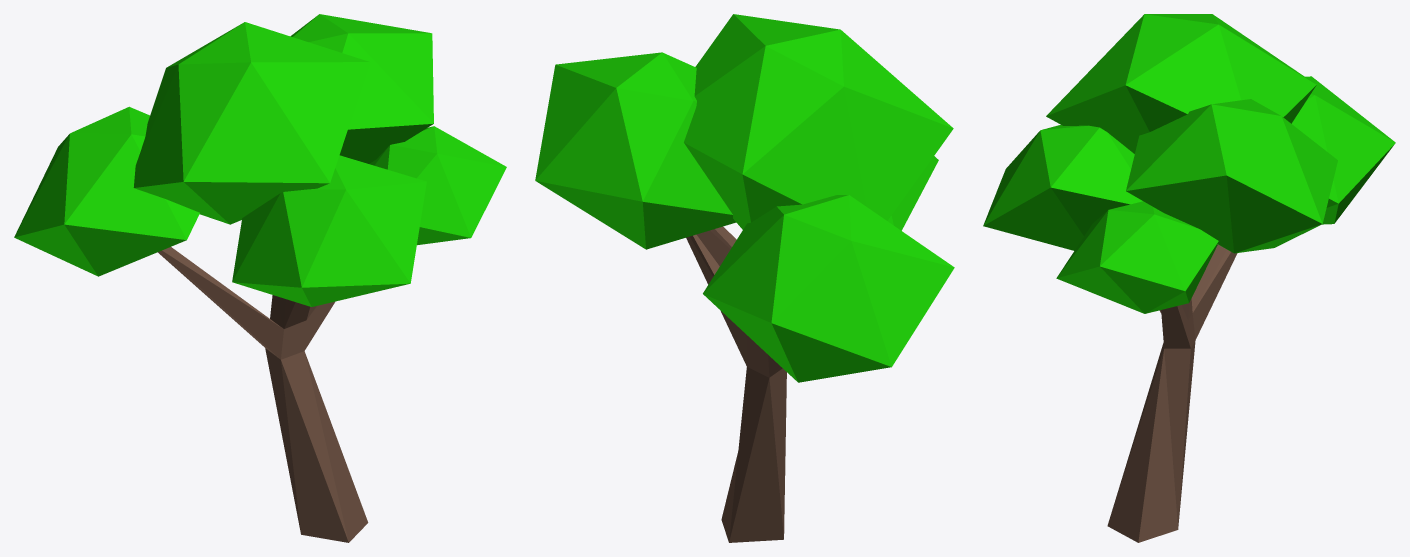
Rendered from oak.dae.
The picture shows the model from 3 angles, left to right: view 1: azimuth 30°, elevation 25°; view 2: azimuth 150°, elevation 25°; view 3: azimuth 270°, elevation 25°; orthographic projection. The views are drawn at different scales.
Visible parts, largest first — view 1: Icosphere, Icosphere_004, Icosphere_001, Cube, Icosphere_002, Icosphere_003; view 2: Icosphere, Icosphere_001, Icosphere_002, Cube, Icosphere_004; view 3: Icosphere_002, Icosphere, Cube, Icosphere_004, Icosphere_003, Icosphere_001.
Boxes of the visible parts, x1=… form: Icosphere: x1=133, y1=22, x2=370, y2=224; Icosphere_004: x1=232, y1=155, x2=426, y2=306; Icosphere_001: x1=14, y1=106, x2=199, y2=276; Cube: x1=158, y1=247, x2=368, y2=542; Icosphere_002: x1=290, y1=14, x2=433, y2=163; Icosphere_003: x1=369, y1=126, x2=506, y2=245; Icosphere: x1=684, y1=14, x2=953, y2=229; Icosphere_001: x1=703, y1=195, x2=954, y2=382; Icosphere_002: x1=535, y1=52, x2=735, y2=249; Cube: x1=686, y1=226, x2=786, y2=542; Icosphere_004: x1=887, y1=156, x2=938, y2=230; Icosphere_002: x1=1126, y1=99, x2=1337, y2=253; Icosphere: x1=1046, y1=14, x2=1316, y2=153; Cube: x1=1107, y1=244, x2=1237, y2=542; Icosphere_004: x1=983, y1=125, x2=1142, y2=250; Icosphere_003: x1=1056, y1=201, x2=1218, y2=313; Icosphere_001: x1=1291, y1=76, x2=1395, y2=224.
Size of the model in its own units: 18.36 by 17.72 by 22.7.
